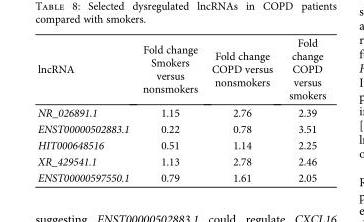table: (36, 36, 325, 183)
table column: (36, 36, 135, 183), (203, 36, 280, 183), (135, 36, 203, 183), (280, 36, 325, 183)
table column header: (36, 36, 325, 103)
table row: (36, 36, 325, 103), (36, 103, 325, 120), (36, 136, 325, 153), (36, 120, 325, 136), (36, 153, 325, 169), (36, 169, 325, 183)
